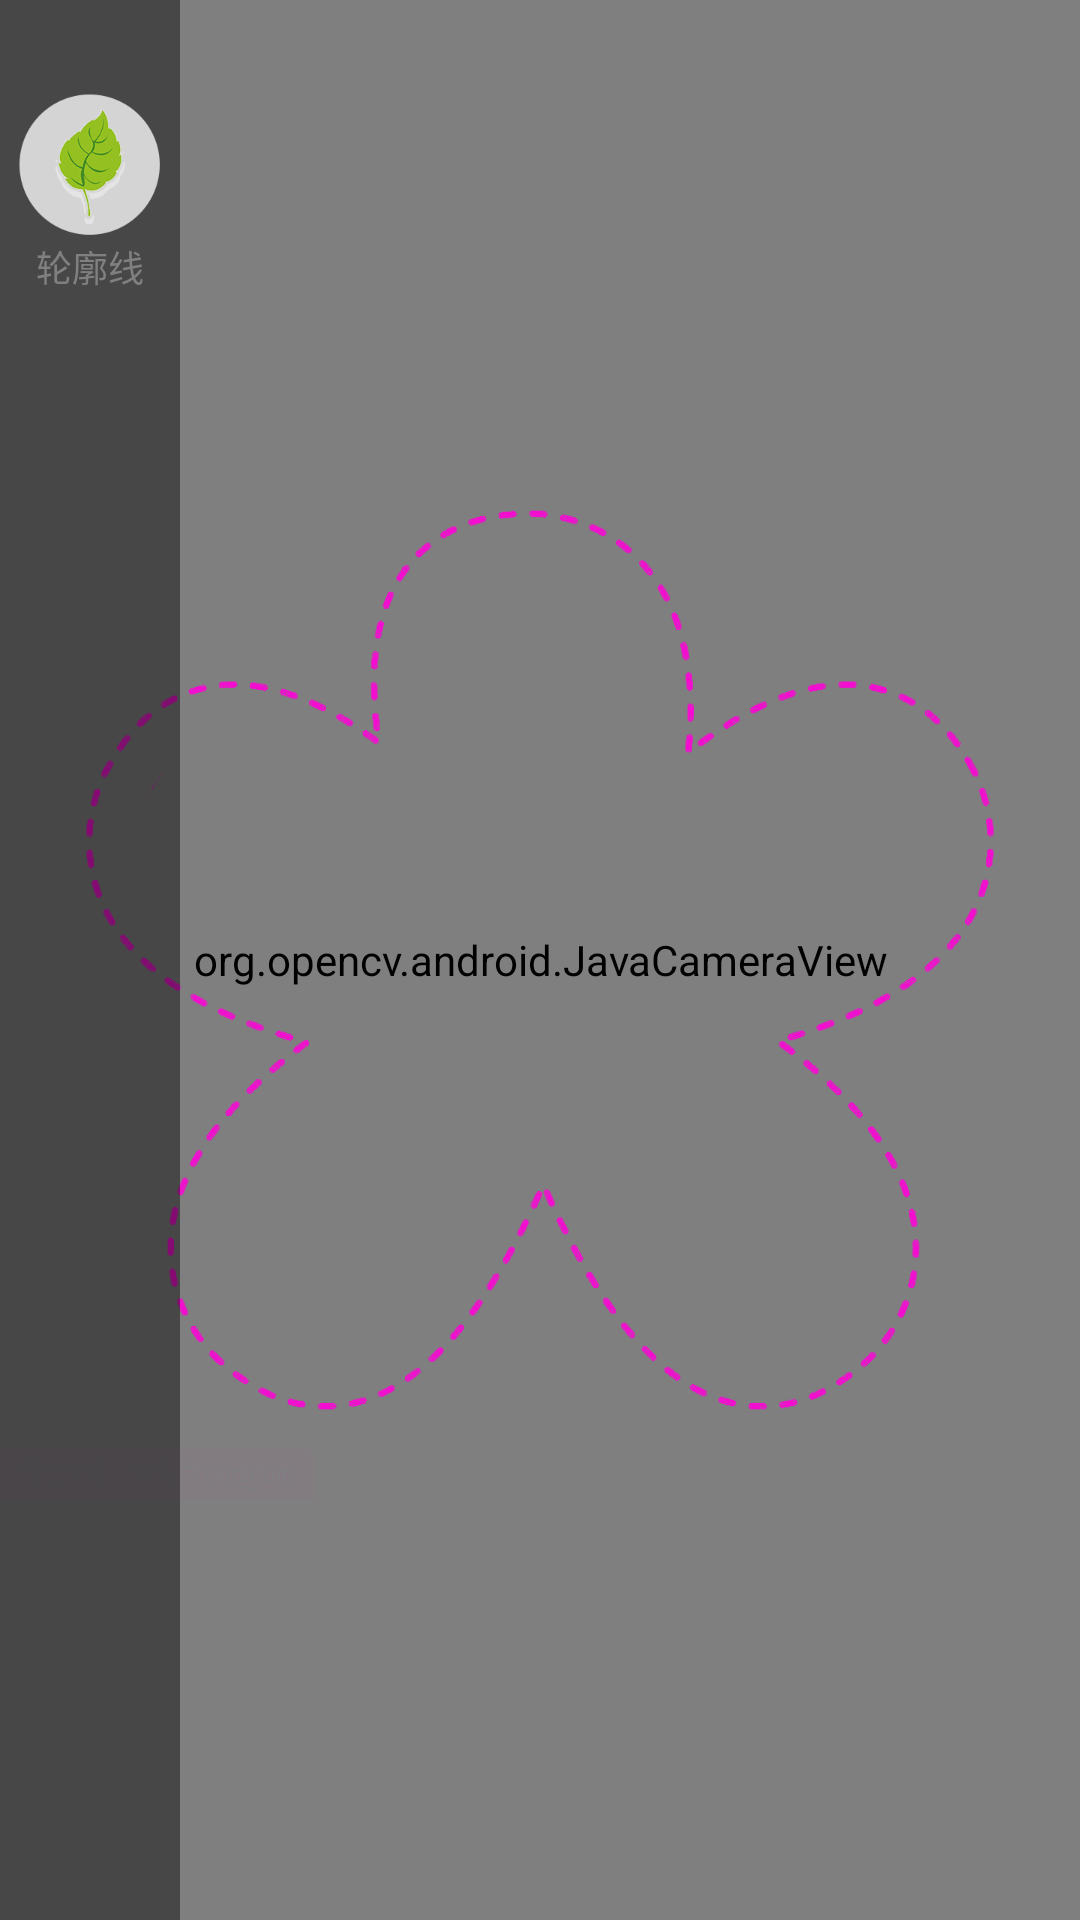

Named icons in this screenshot (1080w x 1920h) and their bounding boxes, (x1, y1, x2, y2):
scaleaf: (19, 94, 160, 235)
